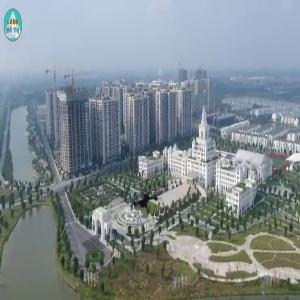drone: (126, 188, 167, 229)
